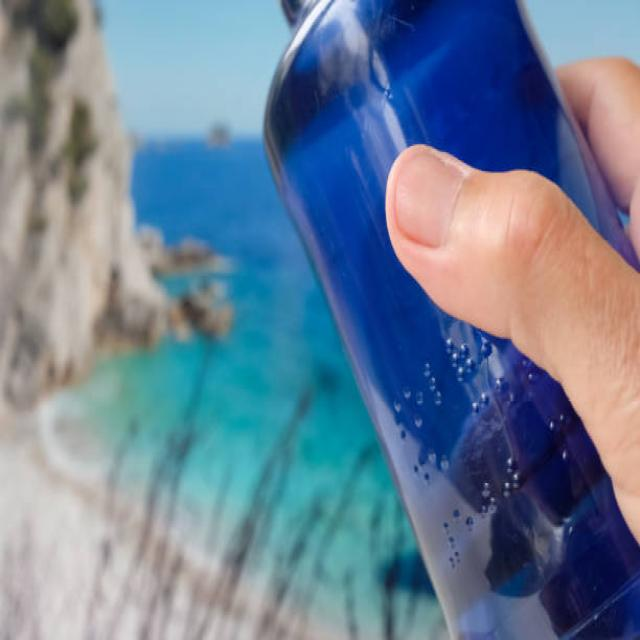blue_bottle: (260, 4, 636, 634)
